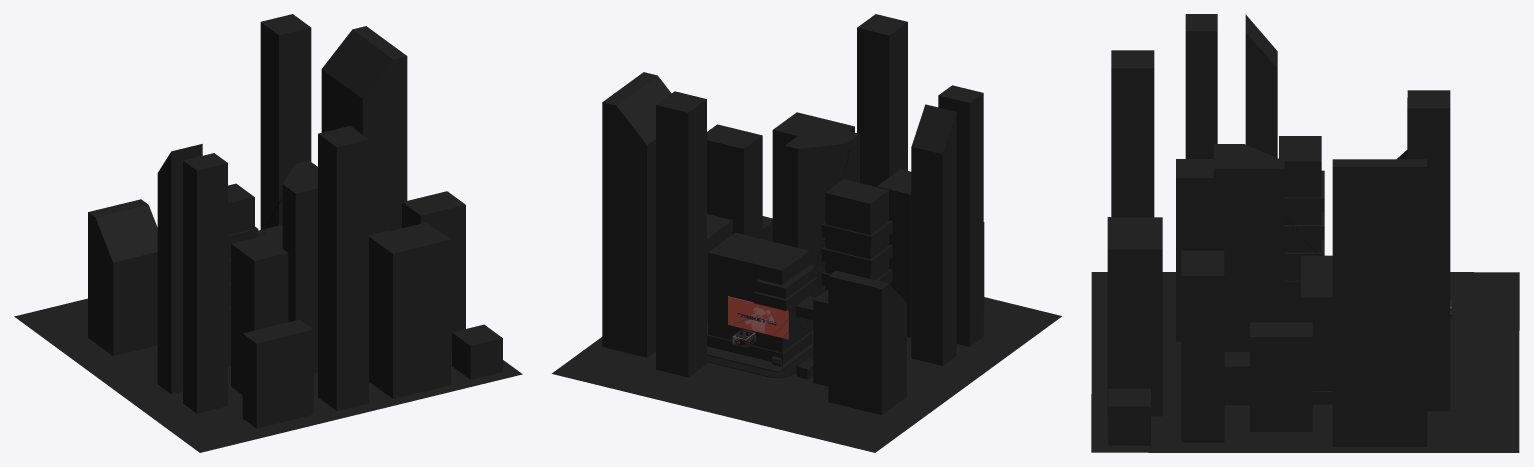
The model's file is room.glb.
3 views of the same model, side by side, from view 1: azimuth 30°, elevation 25°; view 2: azimuth 150°, elevation 25°; view 3: azimuth 270°, elevation 25° (orthographic). The views are drawn at different scales.
Parts seen in each view (by area): view 1: City; view 2: City, Cube.005, Billboard, Road; view 3: City, Cube.005.
Part boxes in pixels (<box>): City: <box>14,14,522,452</box>; City: <box>552,14,1062,452</box>; Cube.005: <box>707,232,818,364</box>; Billboard: <box>728,296,788,339</box>; Road: <box>707,346,813,378</box>; City: <box>1091,14,1519,452</box>; Cube.005: <box>1301,255,1332,404</box>.
Bounding box in the file's own units: 98.37 × 78.21 × 98.37.
Materials: 23 (7 with a texture image).
